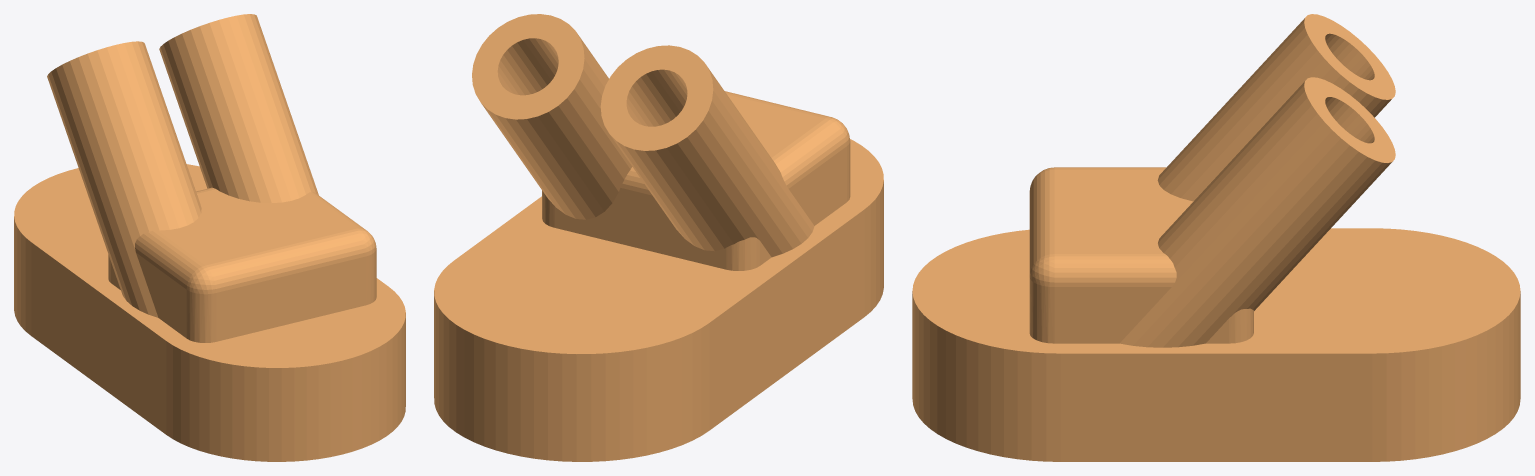
The model's file is racer-twin-exhaust.glb.
3 views of the same model, side by side, from view 1: azimuth 30°, elevation 25°; view 2: azimuth 150°, elevation 25°; view 3: azimuth 270°, elevation 25° (orthographic). The views are drawn at different scales.
Parts seen in each view (by area): view 1: racer-twin-exhaust; view 2: racer-twin-exhaust; view 3: racer-twin-exhaust.
Part boxes in pixels (x1,y1,x2,y2): racer-twin-exhaust: [14, 14, 405, 461]; racer-twin-exhaust: [434, 14, 883, 461]; racer-twin-exhaust: [912, 14, 1520, 461].
Bounding box in the file's own units: 0.0119 × 0.0153 × 0.0244.
